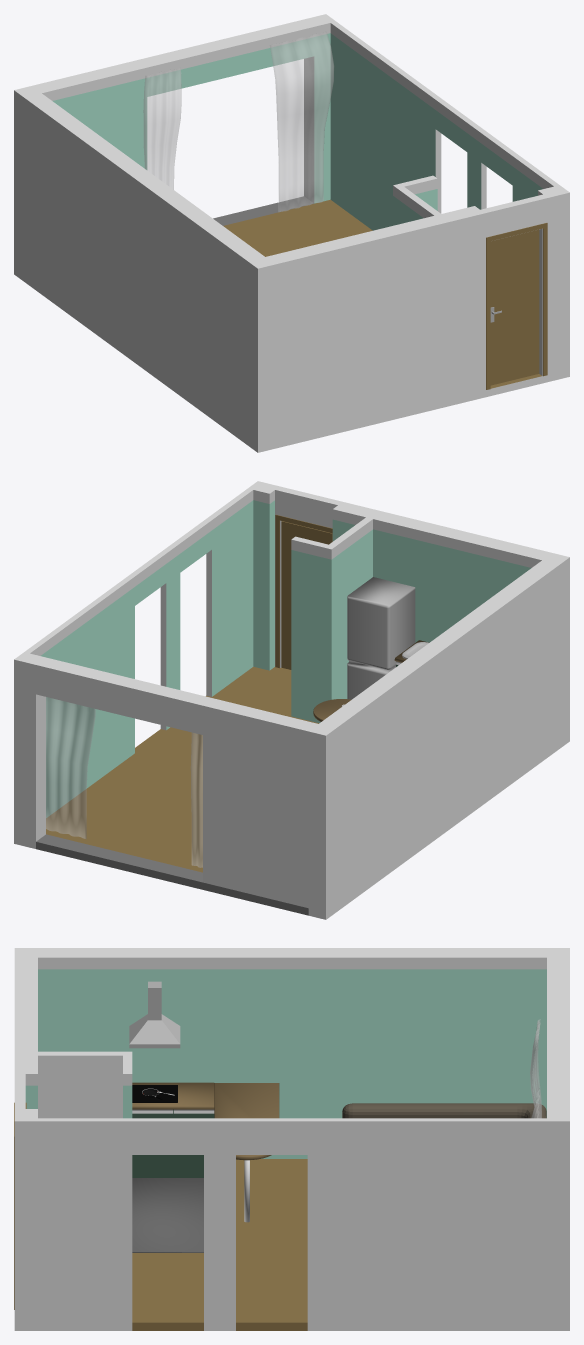
Rendered from Living.fbx.
3 renders of one model, top to bottom at view 1: azimuth 30°, elevation 25°; view 2: azimuth 150°, elevation 25°; view 3: azimuth 270°, elevation 25°, orthographic. The views are drawn at different scales.
Visible parts, largest first — view 1: Flat.001, Flat.006, Cube.002, Cube.001; view 2: Flat.001, Fridge.001, Cube.002, Flat.006, Cube.001; view 3: Flat.001, KitchenFloor.001, Couch.001, Table.001, Cube, Kitchen1.001, KitchenBasDoor3.002, KitchenBasDoor3.003, Plane.001, Cube.001.
Boxes of the visible parts, x1,y1,x2,y2 form: Flat.001: [14, 14, 569, 452]; Flat.006: [486, 223, 547, 389]; Cube.002: [270, 31, 334, 211]; Cube.001: [143, 68, 181, 189]; Flat.001: [14, 481, 569, 919]; Fridge.001: [347, 577, 415, 699]; Cube.002: [46, 697, 95, 838]; Flat.006: [275, 514, 332, 669]; Cube.001: [190, 732, 202, 867]; Flat.001: [14, 948, 569, 1330]; KitchenFloor.001: [132, 1178, 203, 1252]; Couch.001: [342, 1103, 546, 1118]; Table.001: [214, 1083, 279, 1160]; Cube: [129, 981, 180, 1048]; Kitchen1.001: [132, 1082, 214, 1109]; KitchenBasDoor3.002: [132, 1109, 172, 1172]; KitchenBasDoor3.003: [173, 1109, 214, 1172]; Plane.001: [132, 1085, 177, 1102]; Cube.001: [530, 1019, 541, 1118].
Bounding box in the file's own units: 4432 × 2500 × 6009.
